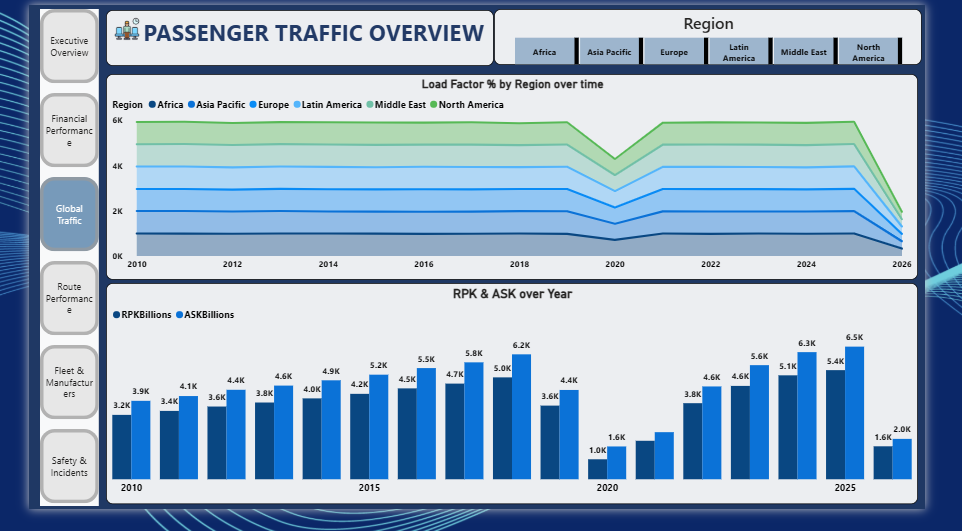

What the dashboard file says about the page in this screenshot:
{"tool":"powerbi","page":{"name":"Global Traffic","canvas":[1280,720],"ordinal":2},"visuals":[{"type":"clusteredColumnChart","title":"RPK & ASK over Year","fields":{"Category":["Fact_Traffic4.YearMonth.Variation.Date Hierarchy.Year"],"Y":["Sum(Fact_Traffic4.RPKBillions)","Sum(Fact_Traffic4.ASKBillions)"]},"box":[110,397.1,1160,315.7],"z":0},{"type":"stackedAreaChart","title":"Load Factor % by Region over time","fields":{"Category":["Fact_Traffic4.YearMonth.Variation.Date Hierarchy.Year"],"Series":["Fact_Traffic4.Region"],"Y":["Sum(Fact_Traffic4.LoadFactorPct)"]},"box":[110,98.6,1160,294.3],"z":1000},{"type":"slicer","title":"Region","fields":{"Values":["Fact_Traffic4.Region"]},"box":[664.3,5.7,611.4,80],"z":2000},{"type":"textbox","box":[110,7.1,554.3,80],"z":3000},{"type":"image","box":[100,7.1,80,54.3],"z":4000},{"type":"pageNavigator","box":[15.7,5.7,84.3,710],"z":4001}]}

Visuals, with their boxes in screenshot pixels (x1, y1, x2, y2):
"RPK & ASK over Year" clusteredColumnChart: <region>105, 281, 919, 503</region>
"Load Factor % by Region over time" stackedAreaChart: <region>105, 72, 919, 278</region>
"Region" slicer: <region>494, 7, 923, 63</region>
textbox: <region>105, 7, 494, 64</region>
image: <region>98, 7, 154, 46</region>
pageNavigator: <region>39, 7, 98, 505</region>
